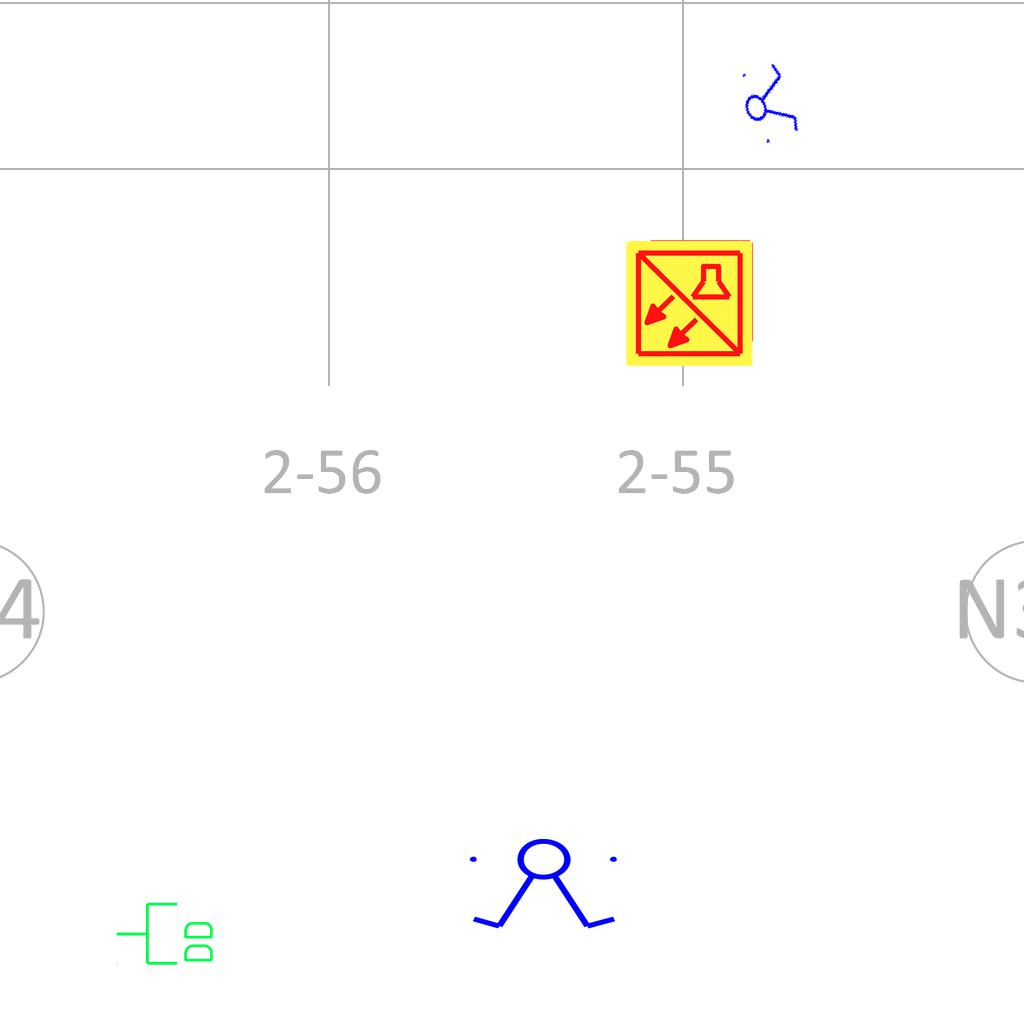Datenanschluss_zweifach: (114, 900, 217, 969)
OKW_Multisensormelder_(Kombination_optischer_Rauch-Kahlenmonoxid_Waerme-Melder): (623, 237, 755, 369)
Serienschalter: (461, 837, 629, 933), (731, 55, 805, 151)
